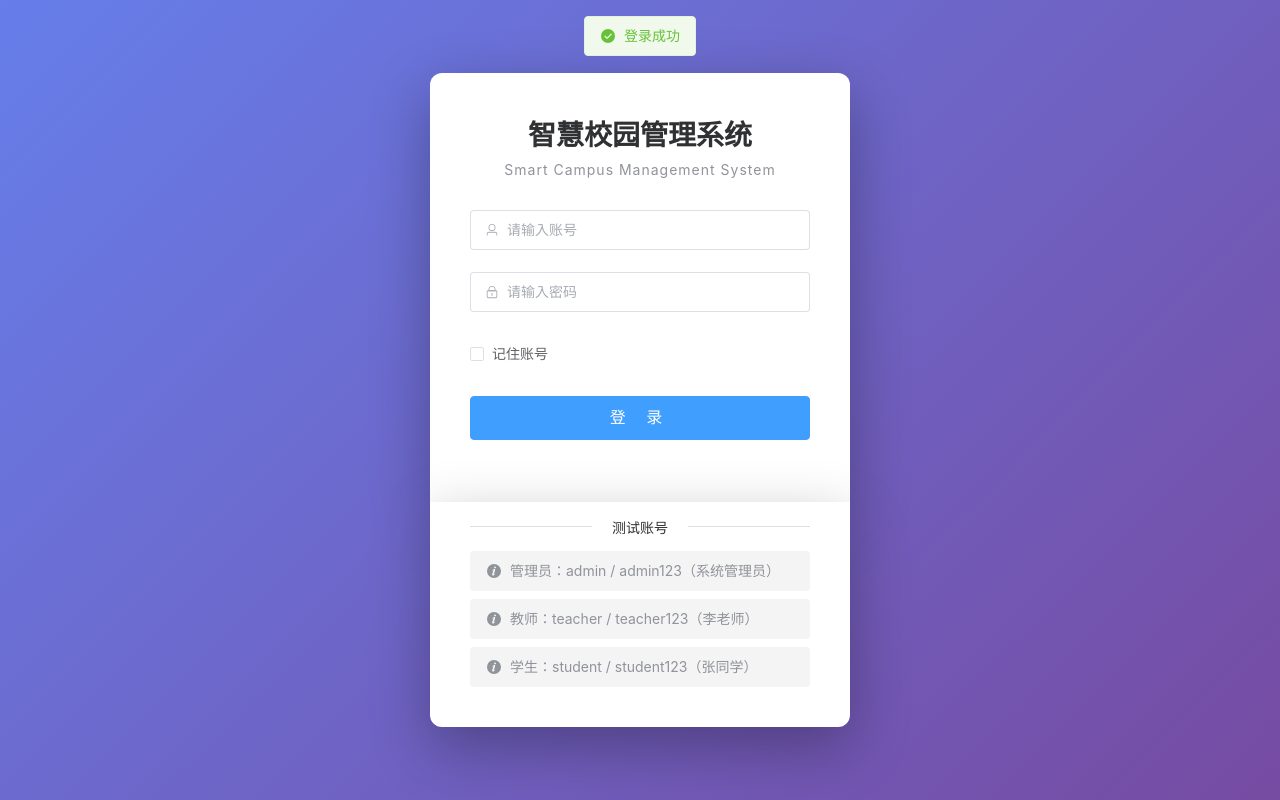
Scenario: Login.vue - 测试账号一键填入回归测试 › 填入后主动触发登录才进入成功态 › 教师账号填入后 -> 登录失败 -> 密码被清空但账号保留，未进入成功态
Click the message "教师：teacher / teacher123（李老师）" at (640, 619), box [470, 599, 810, 639]
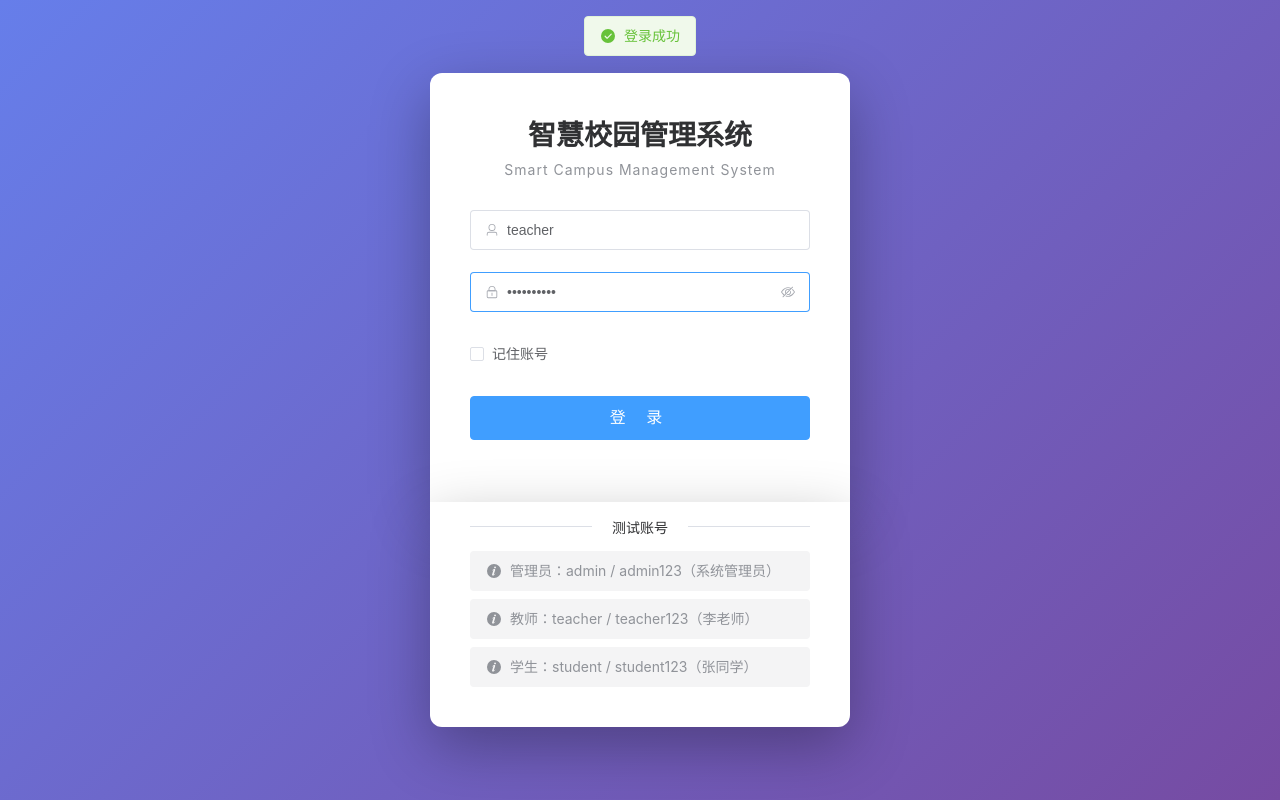
Type "wrongpass" into the password field at (640, 292), box [507, 273, 773, 311]
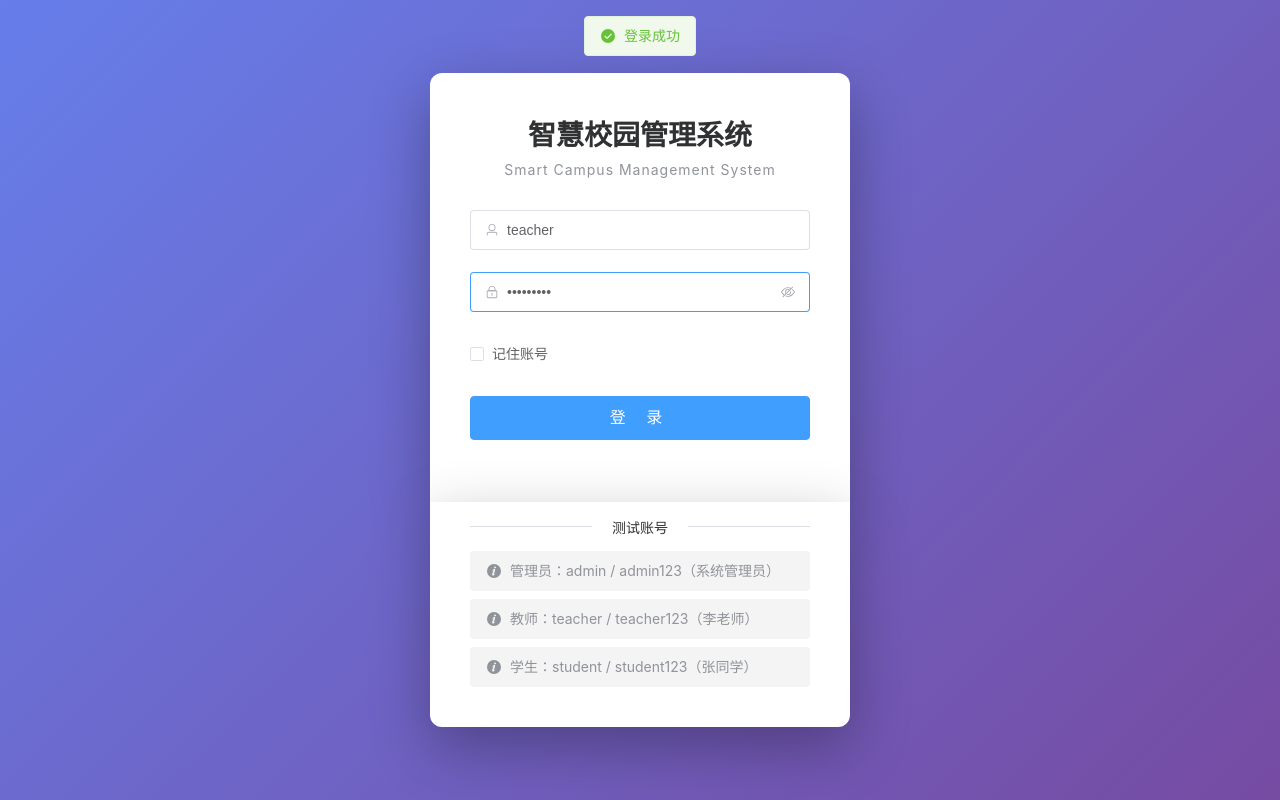
Click the button with class "login-btn" at (640, 418), box [470, 396, 810, 440]
Wait 600 ms
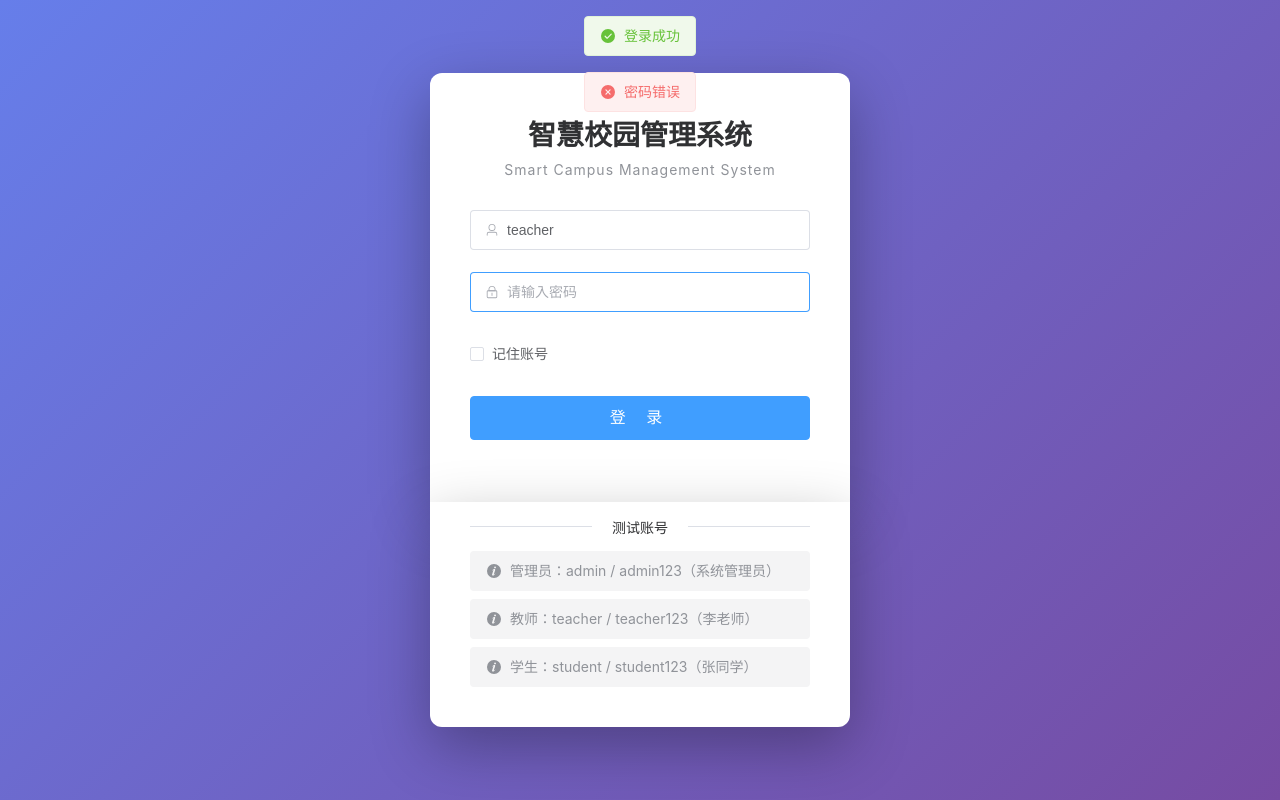
Check: the element with class "login-card" is shown, box [430, 73, 850, 502]
Check: the field holds "teacher", box [507, 211, 795, 249]
Check: the password field with placeholder "请输入密码" is empty, box [507, 273, 795, 311]
